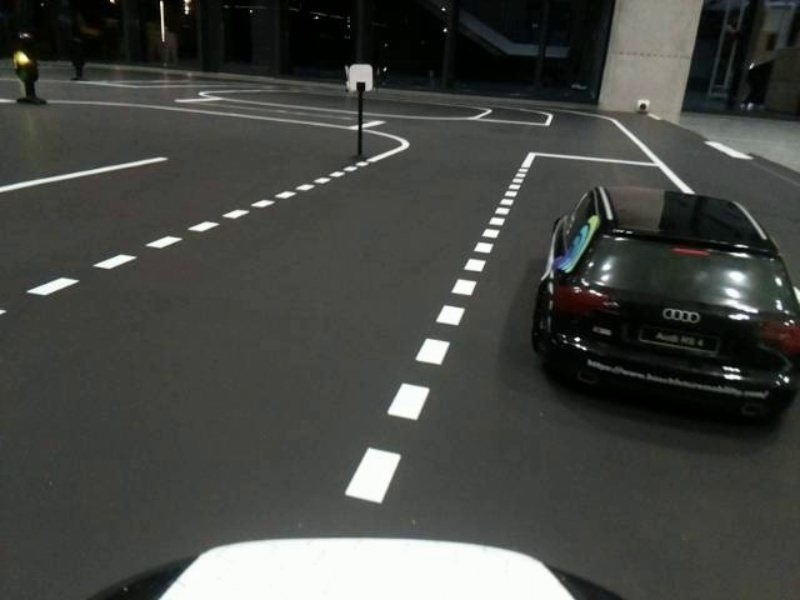car: (522, 171, 797, 439)
